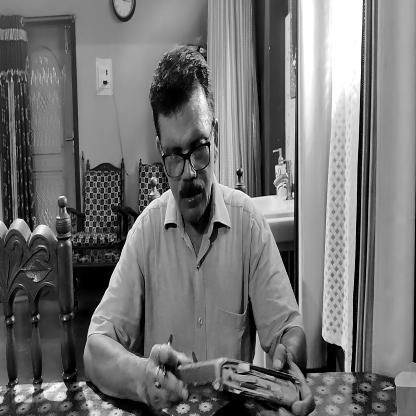Normal: (150, 51, 216, 225)
